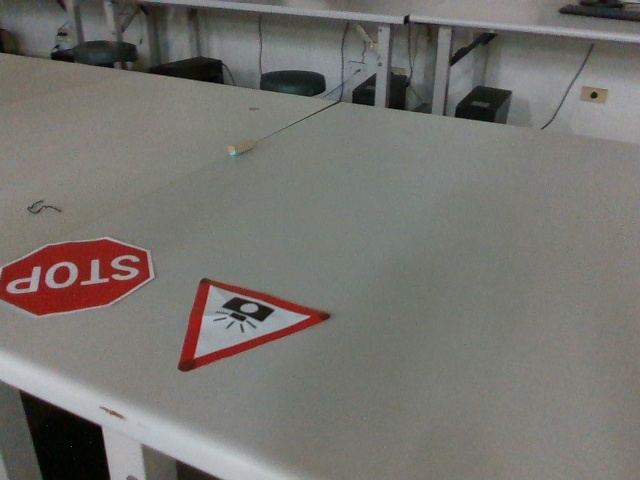camera: (178, 274, 335, 376)
stop: (1, 236, 160, 319)
